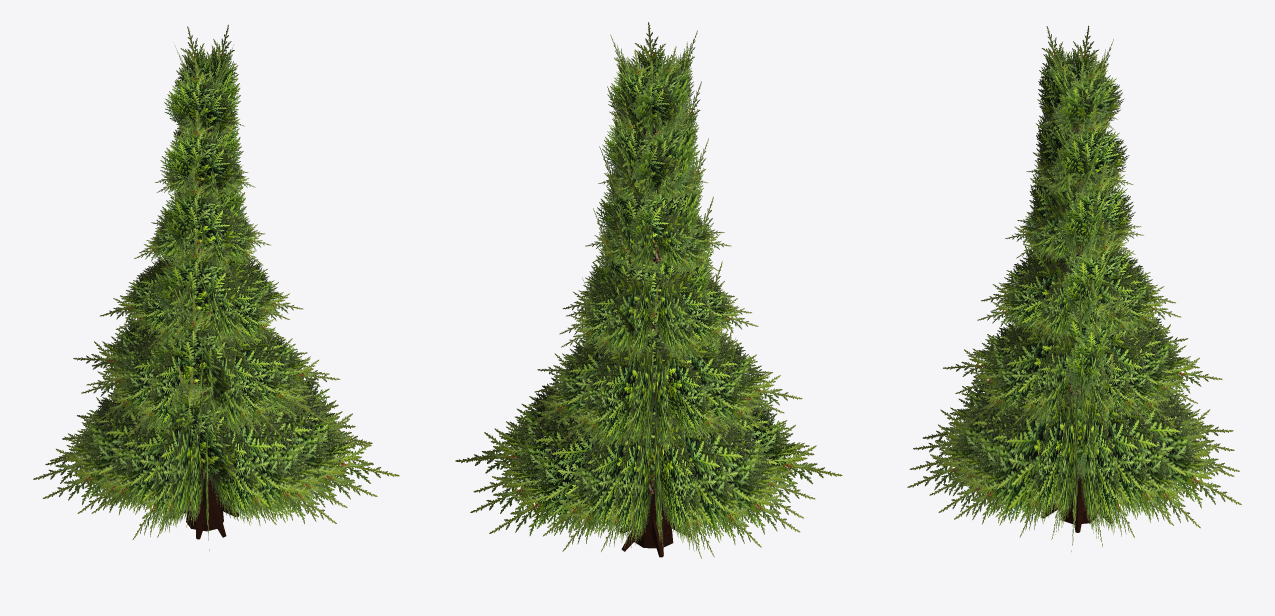
The model's file is tree_pine_03_real.glb.
3 views of the same model, side by side, from view 1: azimuth 30°, elevation 25°; view 2: azimuth 150°, elevation 25°; view 3: azimuth 270°, elevation 25° (orthographic). The views are drawn at different scales.
Parts seen in each view (by area): view 1: tree_pine_03; view 2: tree_pine_03; view 3: tree_pine_03.
Part boxes in pixels (x1,y1,x2,y2): tree_pine_03: [33, 24, 399, 550]; tree_pine_03: [455, 22, 842, 558]; tree_pine_03: [907, 25, 1241, 551].
Size of the model in its own units: 5.93 by 8.03 by 5.45.
Materials: 2 (2 with a texture image).
